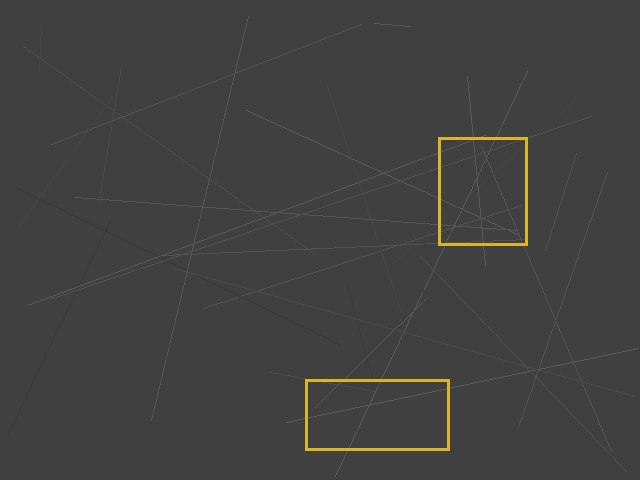D00: (305, 379, 449, 450)
D10: (438, 137, 527, 245)
